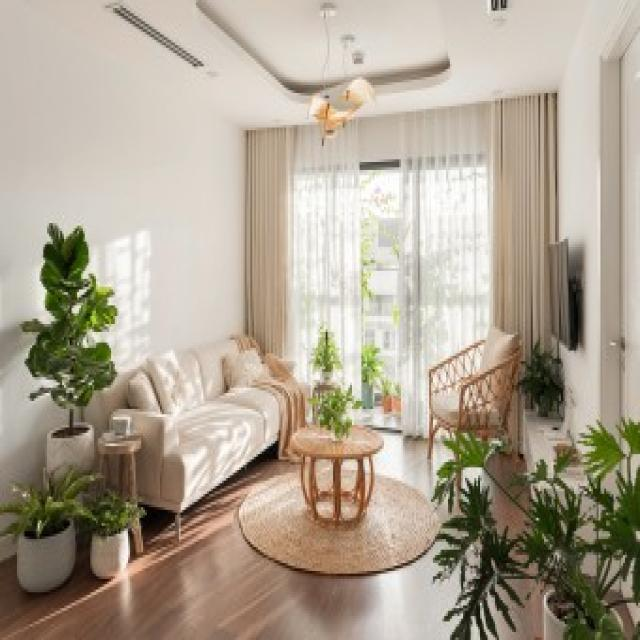Chair: (419, 324, 522, 466)
Sofa: (106, 304, 306, 527)
Table: (288, 410, 386, 531)
tv: (545, 240, 579, 353)
window: (247, 122, 535, 304)
